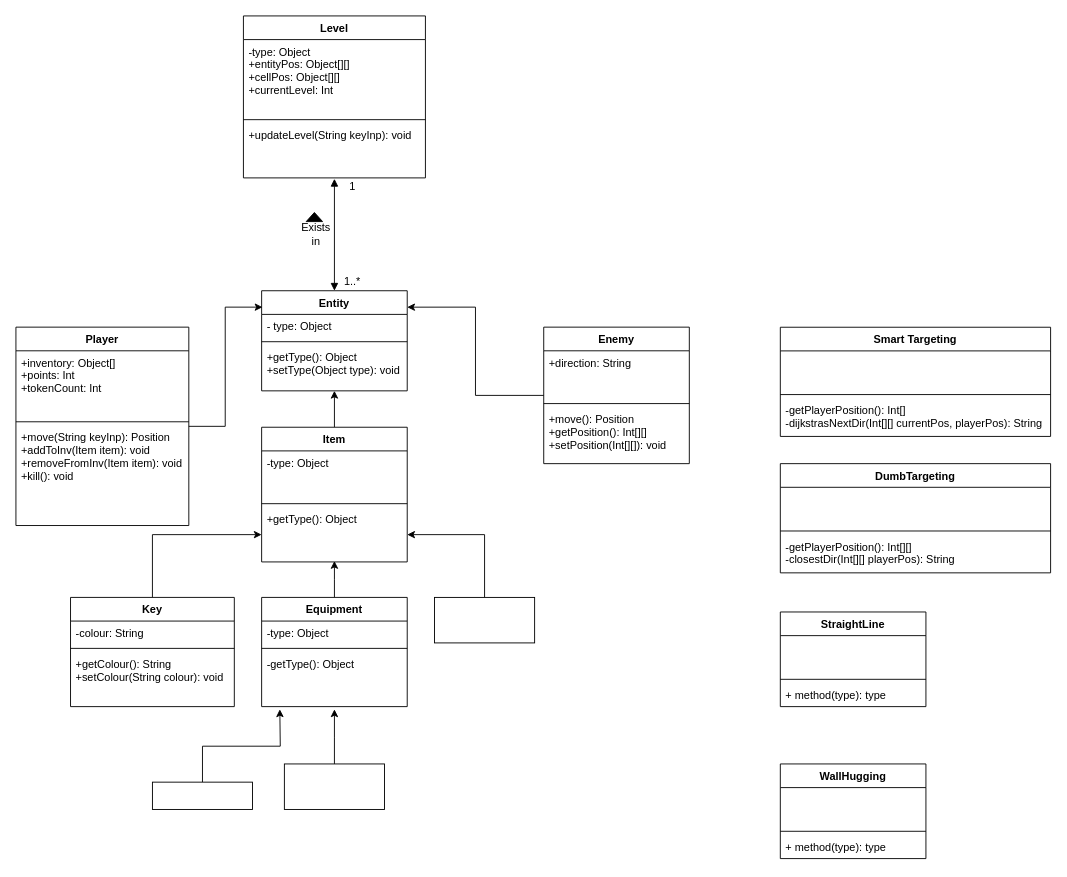
Image size: 1067x877. Some labels were removed from this diagram. Each missing label, with the centre of its shape:
FireBoots: point (333, 786)
Flippers: point (202, 795)
Token: point (484, 620)
